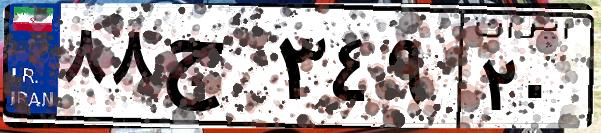0: (525, 38, 570, 115)
2: (475, 38, 525, 113)
3: (270, 28, 330, 110)
4: (330, 28, 385, 110)
8: (57, 26, 110, 100), (110, 28, 158, 98)
9: (385, 28, 445, 110)
ج: (158, 20, 270, 120)
